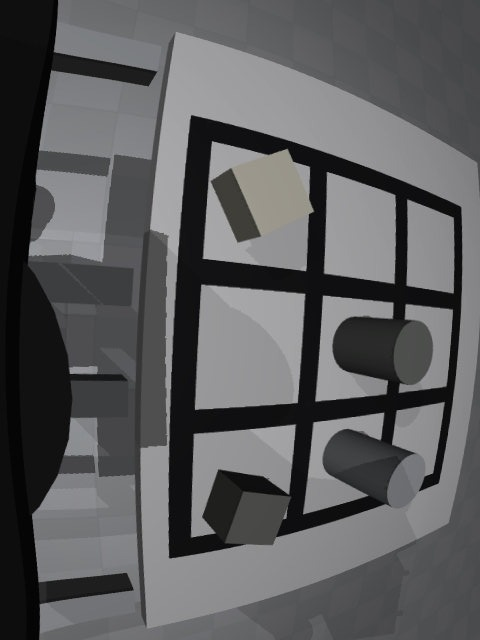can: (322, 429, 426, 509)
cube: (202, 469, 291, 545)
cylinder: (332, 317, 433, 385)
foam: (211, 149, 314, 242)
